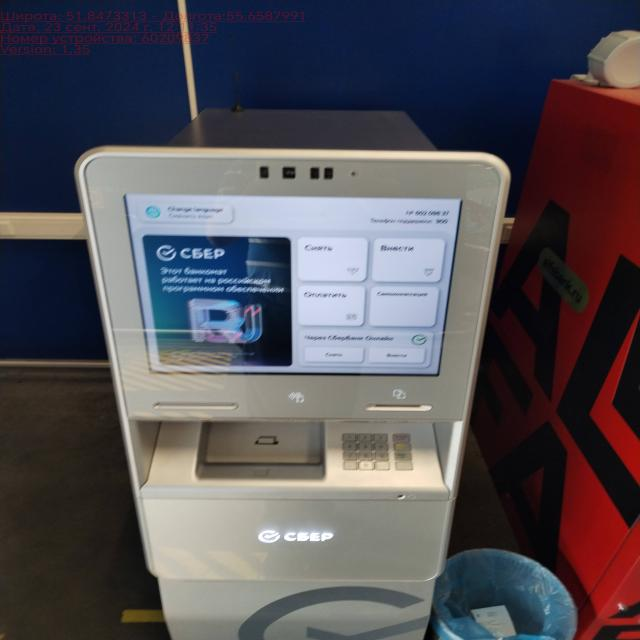bank: (76, 107, 507, 640)
